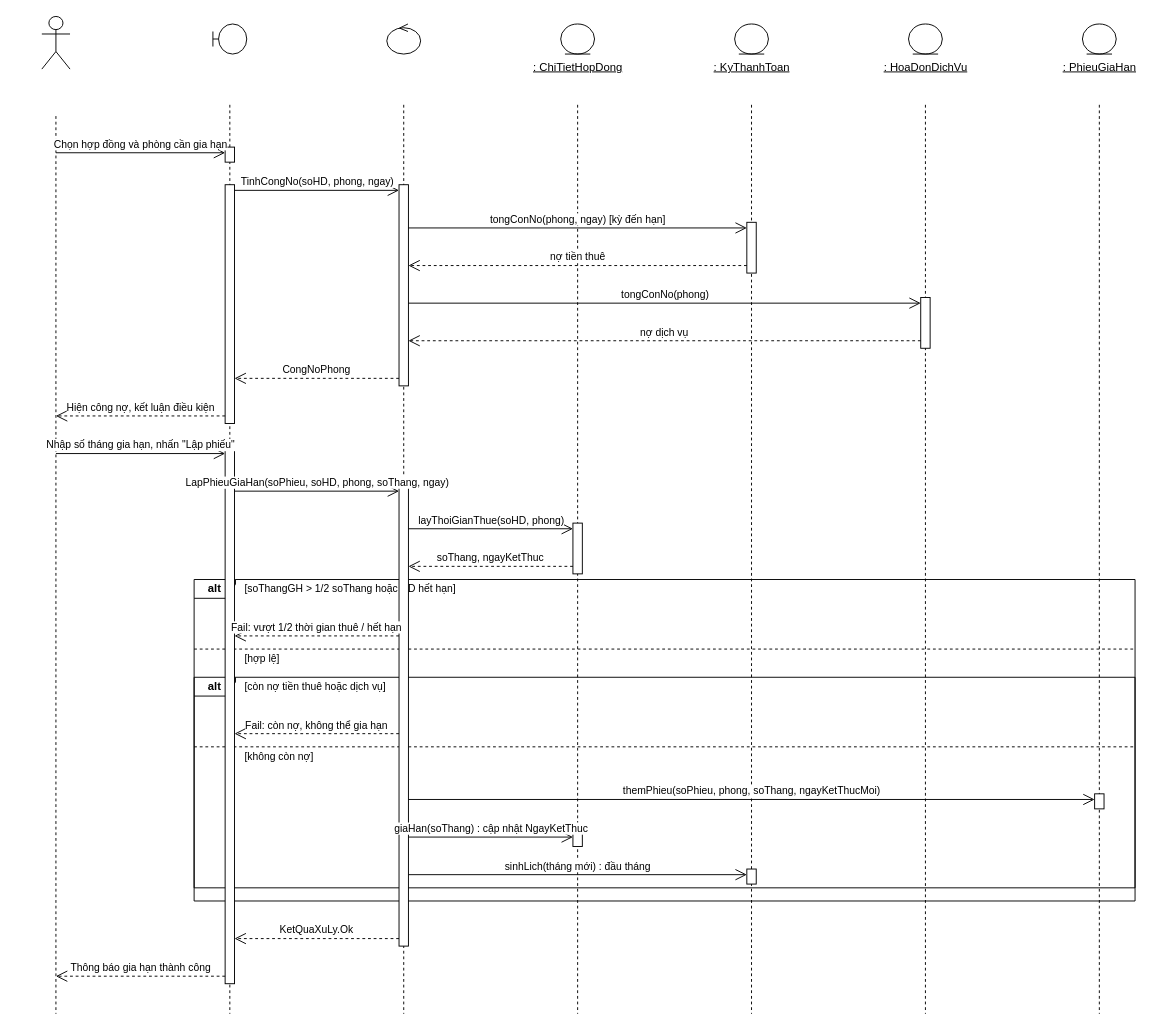
Image size: 1152x1031. Some labels were removed from this diagram. The centre of each missing label's shape, as x and y in pixels:
: FrmGiaHan: (229,38)
: GiaHanService: (403,38)
: NV kinh doanh: (55,42)
